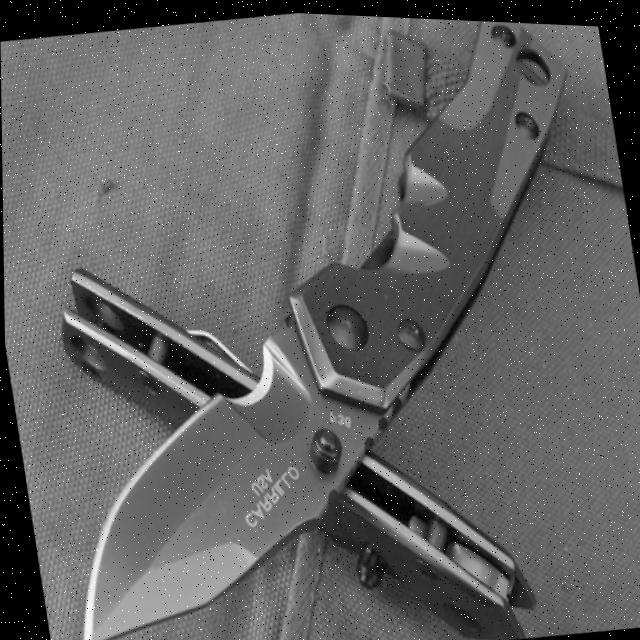knife: (0, 0, 640, 640), (52, 209, 540, 640)
